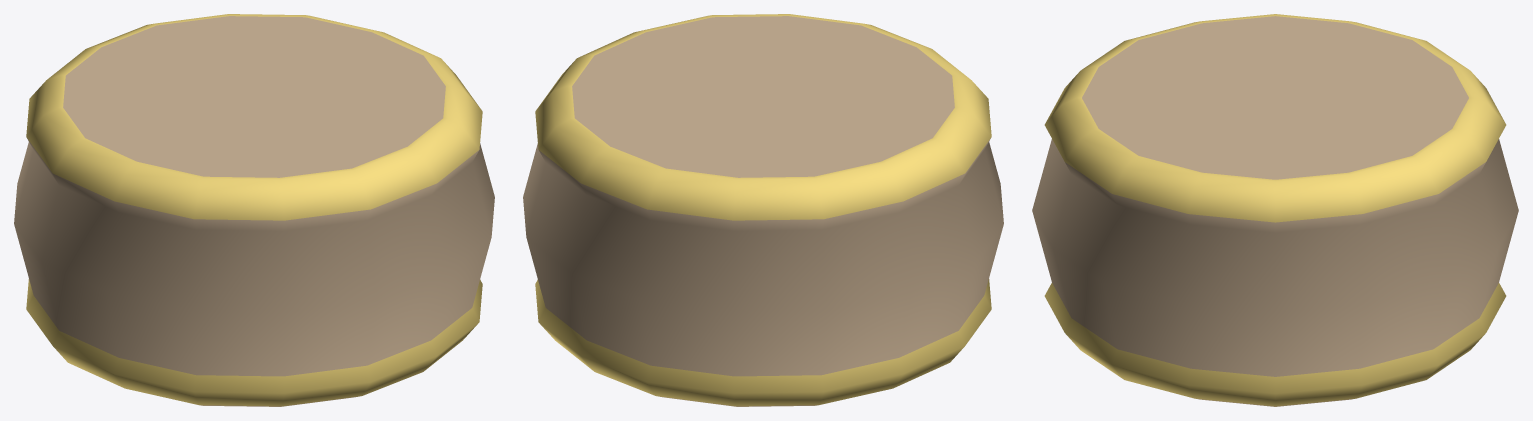
File: barrel.glb
3 views of the same model, side by side, from view 1: azimuth 30°, elevation 25°; view 2: azimuth 150°, elevation 25°; view 3: azimuth 270°, elevation 25° (orthographic).
Parts seen in each view (by area): view 1: barrel; view 2: barrel; view 3: barrel.
Boxes of the visible parts, bbox=[...] form: barrel: bbox=[14, 14, 494, 406]; barrel: bbox=[523, 14, 1003, 406]; barrel: bbox=[1032, 14, 1518, 406].
Size of the model in its own units: 1.96 by 1 by 1.96.
